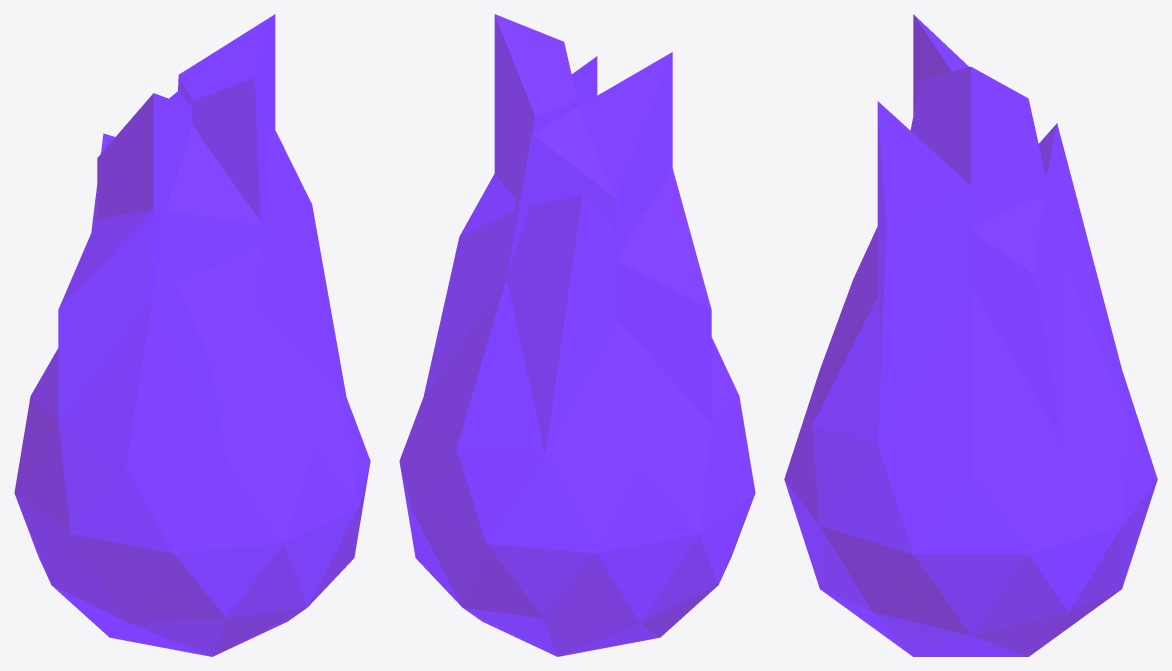
Rendered from t3shell.fbx.
The picture shows the model from 3 angles, left to right: view 1: azimuth 30°, elevation 25°; view 2: azimuth 150°, elevation 25°; view 3: azimuth 270°, elevation 25°; orthographic projection. The views are drawn at different scales.
Parts seen in each view (by area): view 1: Icosphere; view 2: Icosphere; view 3: Icosphere.
Boxes of the visible parts, <box> form: Icosphere: <box>14,14,370,656</box>; Icosphere: <box>399,14,755,656</box>; Icosphere: <box>784,14,1157,656</box>.
Bounding box in the file's own units: 57.06 × 111 × 60.
